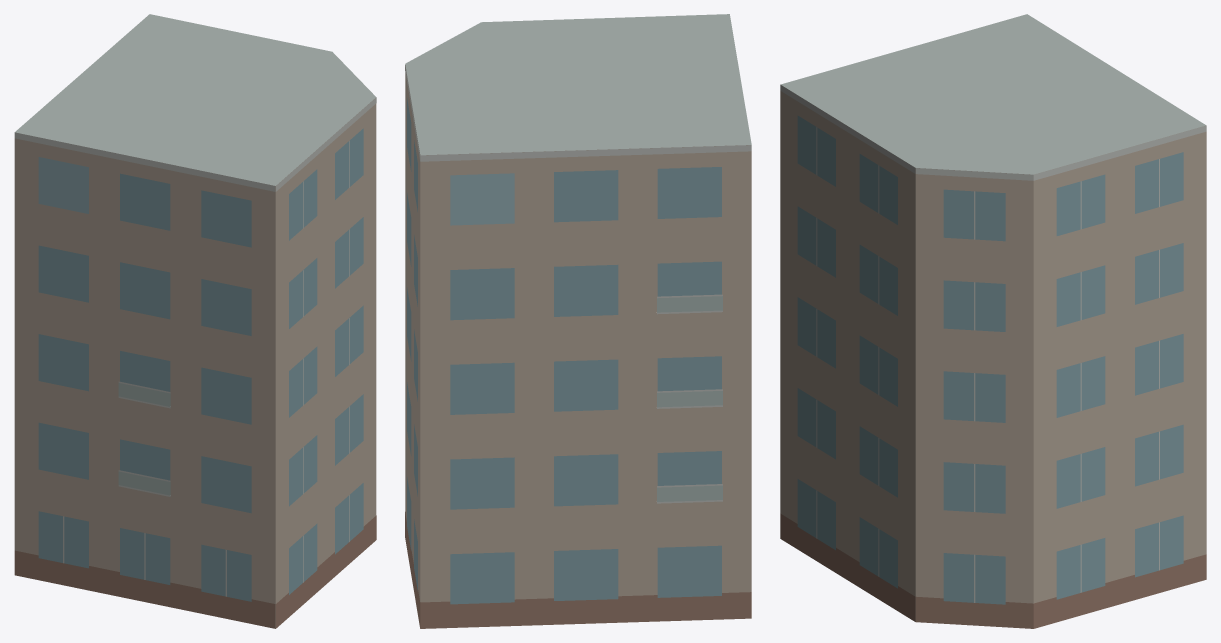
The model's file is survey-upis-32851226.glb.
3 views of the same model, side by side, from view 1: azimuth 30°, elevation 25°; view 2: azimuth 150°, elevation 25°; view 3: azimuth 270°, elevation 25° (orthographic). The views are drawn at different scales.
Visible parts, largest first — view 1: survey-upis-32851226.tmp; view 2: survey-upis-32851226.tmp; view 3: survey-upis-32851226.tmp.
Part boxes in pixels (box(x1,y1,x2,y2)): survey-upis-32851226.tmp: box(14, 14, 376, 628); survey-upis-32851226.tmp: box(405, 14, 751, 628); survey-upis-32851226.tmp: box(780, 14, 1206, 628).
Bounding box in the file's own units: 13.62 × 17.94 × 15.26.
